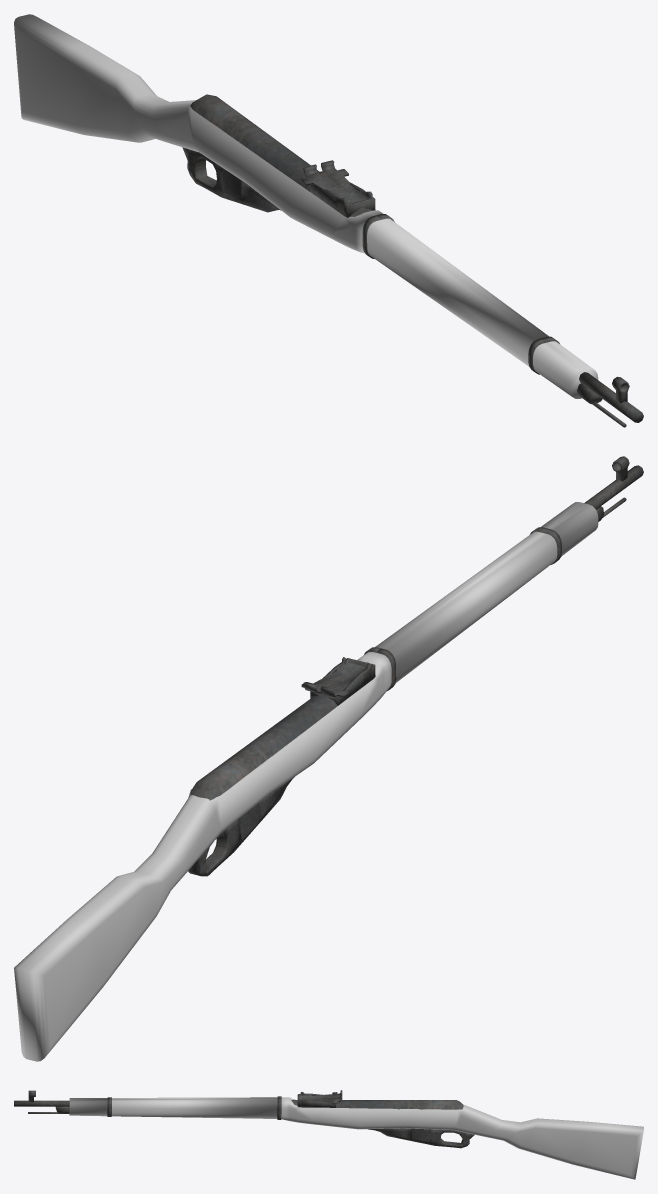
File: Rifle.fbx
3 views of the same model, one above another, from view 1: azimuth 30°, elevation 25°; view 2: azimuth 150°, elevation 25°; view 3: azimuth 270°, elevation 25° (orthographic). The views are drawn at different scales.
Visible parts, largest first — view 1: Plane, Cylinder, Plane.001, Plane.002, Cylinder.003; view 2: Plane, Cylinder, Plane.002, Plane.001, Cylinder.003; view 3: Plane, Cylinder, Plane.002, Plane.001, Cylinder.003.
Part boxes in pixels (box(x1,y1,x2,y2)): Plane: box(14, 14, 598, 398); Cylinder: box(190, 94, 372, 216); Plane.001: box(301, 160, 375, 217); Plane.002: box(182, 147, 280, 212); Cylinder.003: box(577, 372, 643, 427); Plane: box(14, 502, 598, 1061); Cylinder: box(190, 662, 368, 800); Plane.002: box(188, 777, 294, 876); Plane.001: box(301, 657, 375, 705); Cylinder.003: box(584, 456, 643, 521); Plane: box(69, 1096, 643, 1179); Cylinder: box(291, 1100, 463, 1109); Plane.002: box(368, 1128, 474, 1148); Plane.001: box(297, 1090, 342, 1107); Cylinder.003: box(14, 1090, 69, 1113).
Size of the model in its own units: 51.77 by 198 by 1295.
